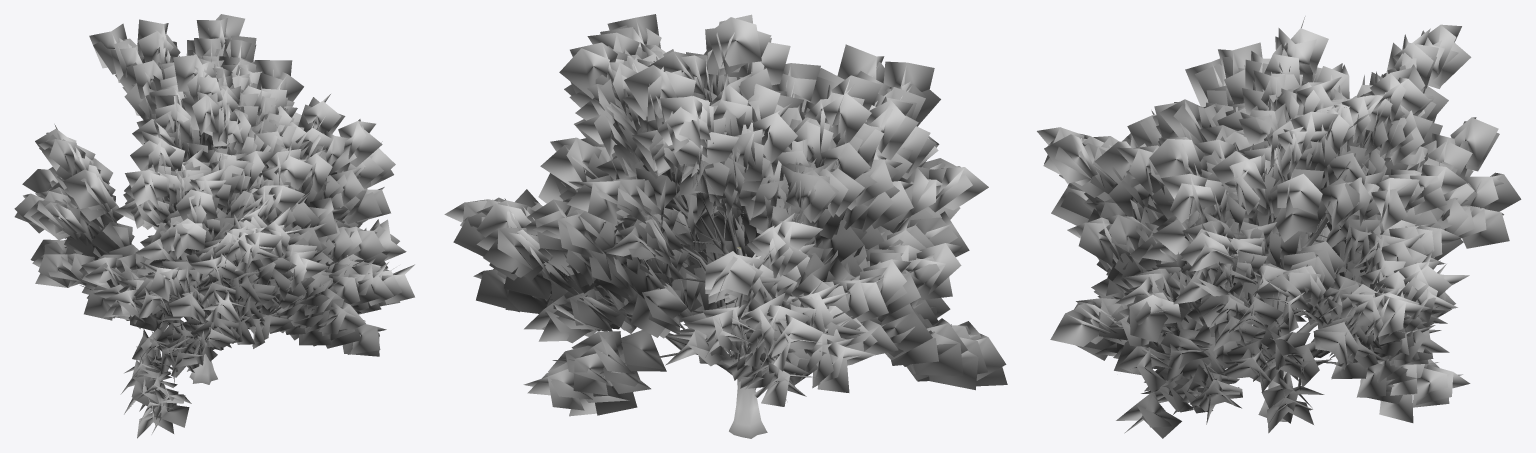
File: SycamoreBritish_A.fbx
The picture shows the model from 3 angles, left to right: view 1: azimuth 30°, elevation 25°; view 2: azimuth 150°, elevation 25°; view 3: azimuth 270°, elevation 25°; orthographic projection. The views are drawn at different scales.
Visible parts, largest first — view 1: SycamoreBritish_A_LOD0; view 2: SycamoreBritish_A_LOD0; view 3: SycamoreBritish_A_LOD0.
Part boxes in pixels (x1,y1,x2,y2): SycamoreBritish_A_LOD0: [14, 14, 414, 438]; SycamoreBritish_A_LOD0: [444, 14, 1007, 438]; SycamoreBritish_A_LOD0: [1037, 16, 1521, 438].
Size of the model in its own units: 2332 by 2304 by 2593.
